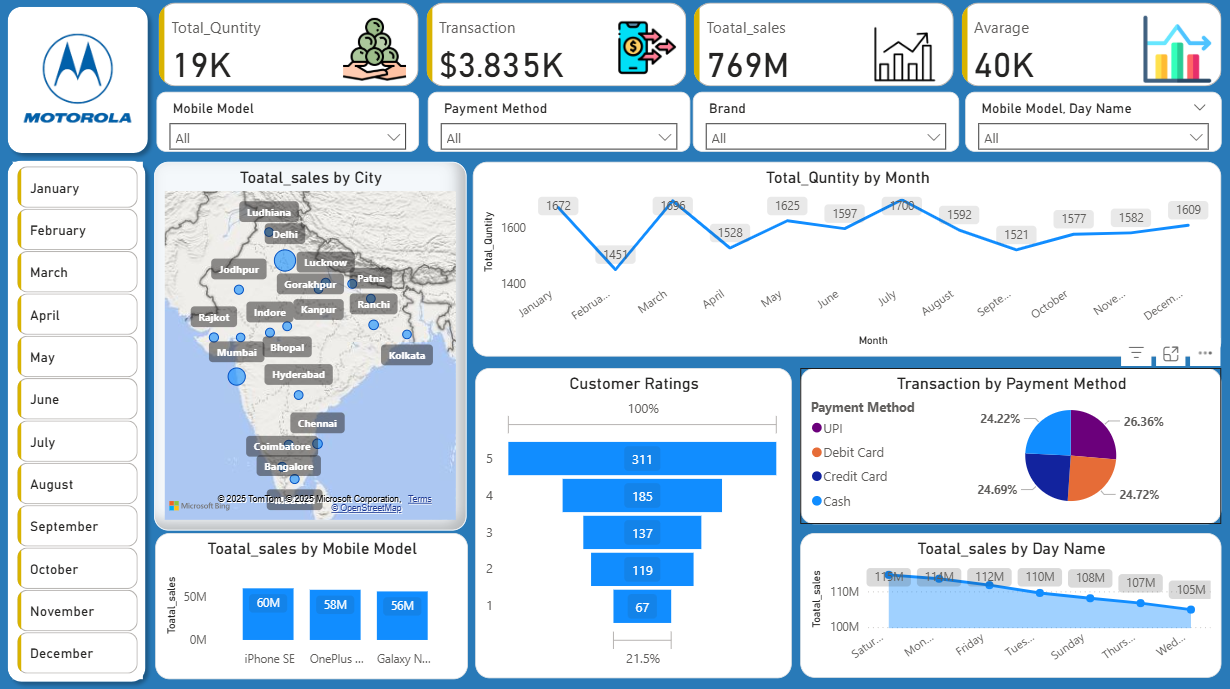

What the dashboard file says about the page in this screenshot:
{"tool":"powerbi","page":{"name":"Page 1","canvas":[1280,720],"ordinal":0},"visuals":[{"type":"shape","box":[0,0,163.6,170.1],"z":0},{"type":"image","box":[20.8,16.9,122.1,132.5],"z":1000},{"type":"shape","box":[0,159.7,161,559.7],"z":2000},{"type":"advancedSlicerVisual","fields":{"Values":["Sheet1.date.Variation.Date Hierarchy.Month"]},"box":[14.3,170.1,135.1,537.7],"z":3000},{"type":"cardVisual","fields":{"Data":["Sales_data.Total_Quntity","Sales_data.Transaction","Sales_data.Toatal_sales","Sales_data.Avarage"]},"box":[161,0,1114.3,97.4],"z":4000},{"type":"map","fields":{"Category":["Sales_data.City"],"Size":["Sales_data.Toatal_sales"]},"box":[161,170.1,324.7,383.1],"z":5000},{"type":"lineChart","fields":{"Category":["Sales_data.date.Variation.Date Hierarchy.Month","Sales_data.date.Variation.Date Hierarchy.Day"],"Y":["Sales_data.Total_Quntity"]},"box":[492.2,170.1,777.9,202.6],"z":6000},{"type":"clusteredColumnChart","fields":{"Category":["Sales_data.Mobile Model"],"Y":["Sales_data.Toatal_sales"]},"box":[162.3,555.8,324.7,151.9],"z":7000},{"type":"pieChart","fields":{"Category":["Sales_data.Payment Method"],"Y":["Sales_data.Transaction"]},"box":[832.5,384.4,437.7,162.3],"z":8000},{"type":"funnel","title":"Customer Ratings","fields":{"Category":["Sales_data.Customer Ratings"],"Y":["CountNonNull(Sales_data.Customer Ratings)"]},"box":[494.8,384.4,328.6,322.1],"z":9000},{"type":"areaChart","title":"Toatal_sales by Day Name","fields":{"Category":["Sales_data.Day Name.1"],"Y":["Sales_data.Toatal_sales"]},"box":[832.5,555.8,437.7,150.6],"z":10000},{"type":"slicer","fields":{"Values":["Sales_data.Mobile Model"]},"box":[163.6,97.4,272.7,62.3],"z":10001},{"type":"slicer","fields":{"Values":["Sales_data.Payment Method"]},"box":[445.5,97.4,272.7,62.3],"z":10002},{"type":"slicer","fields":{"Values":["Sales_data.Brand"]},"box":[720.8,97.4,276.6,62.3],"z":10003},{"type":"slicer","fields":{"Values":["Sales_data.Mobile Model","Sales_data.Day Name.1"]},"box":[1003.9,97.4,266.2,62.3],"z":10004}]}

Visuals, with their boxes in screenshot pixels (x1, y1, x2, y2), scaled from the page's 1280x720 canvas onto the 1230x689 screenshot:
shape: 0:0:157:163
image: 20:16:137:143
shape: 0:153:155:688
advancedSlicerVisual - Sheet1.date.Variation.Date Hierarchy.Month: 14:163:144:677
cardVisual - Sales_data.Total_Quntity x Sales_data.Transaction: 155:0:1225:93
map - Sales_data.City x Sales_data.Toatal_sales: 155:163:467:529
lineChart - Sales_data.date.Variation.Date Hierarchy.Month x Sales_data.date.Variation.Date Hierarchy.Day: 473:163:1220:357
clusteredColumnChart - Sales_data.Mobile Model x Sales_data.Toatal_sales: 156:532:468:677
pieChart - Sales_data.Payment Method x Sales_data.Transaction: 800:368:1221:523
"Customer Ratings" funnel: 475:368:791:676
"Toatal_sales by Day Name" areaChart: 800:532:1221:676
slicer - Sales_data.Mobile Model: 157:93:419:153
slicer - Sales_data.Payment Method: 428:93:690:153
slicer - Sales_data.Brand: 693:93:958:153
slicer - Sales_data.Mobile Model x Sales_data.Day Name.1: 965:93:1220:153
